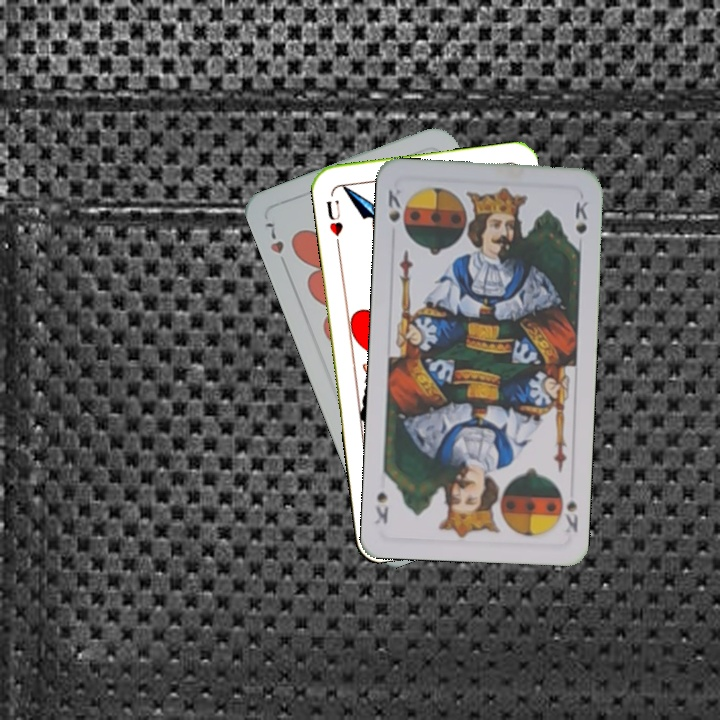H7: (261, 218, 291, 271)
HU: (322, 196, 346, 239)
SK: (554, 483, 581, 540), (384, 186, 409, 235)
